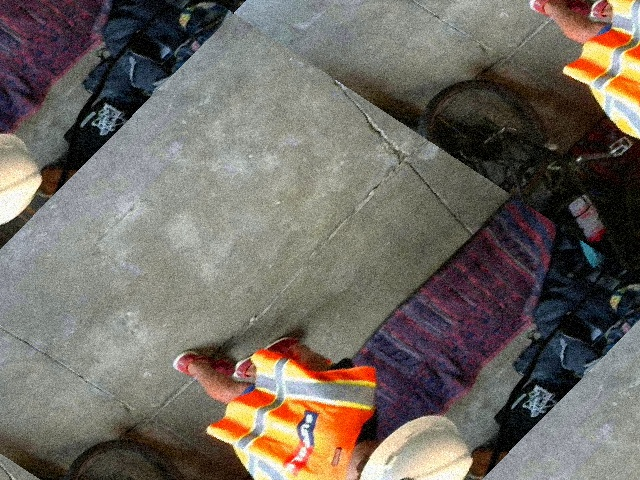three: (379, 471, 431, 479)
